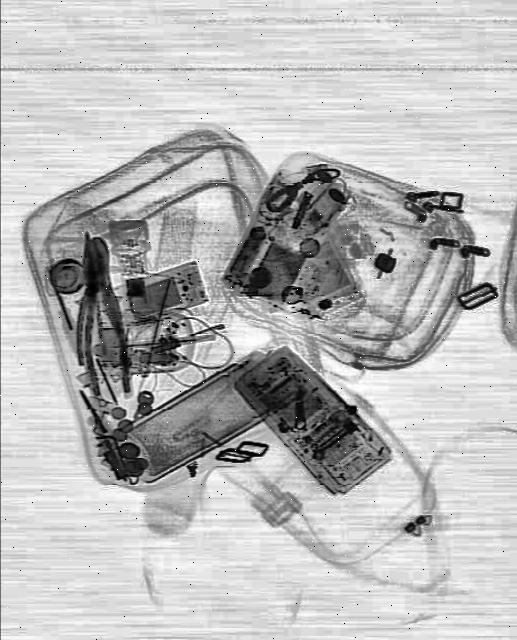Pliers: (70, 228, 136, 400), (69, 234, 134, 370)
